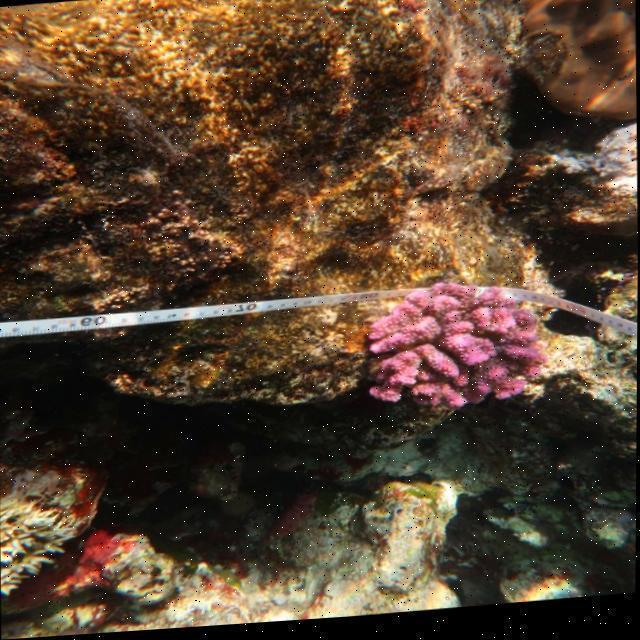Healthy Coral: (352, 274, 564, 439)
